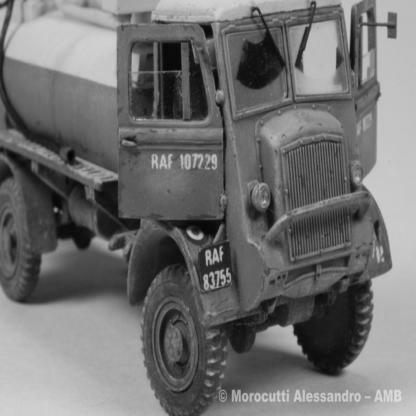truck: (1, 1, 404, 416)
